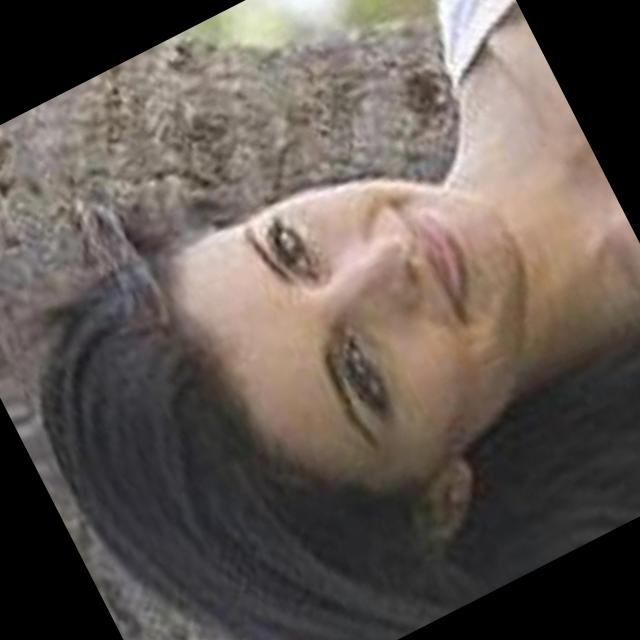bareface: (24, 107, 612, 640)
